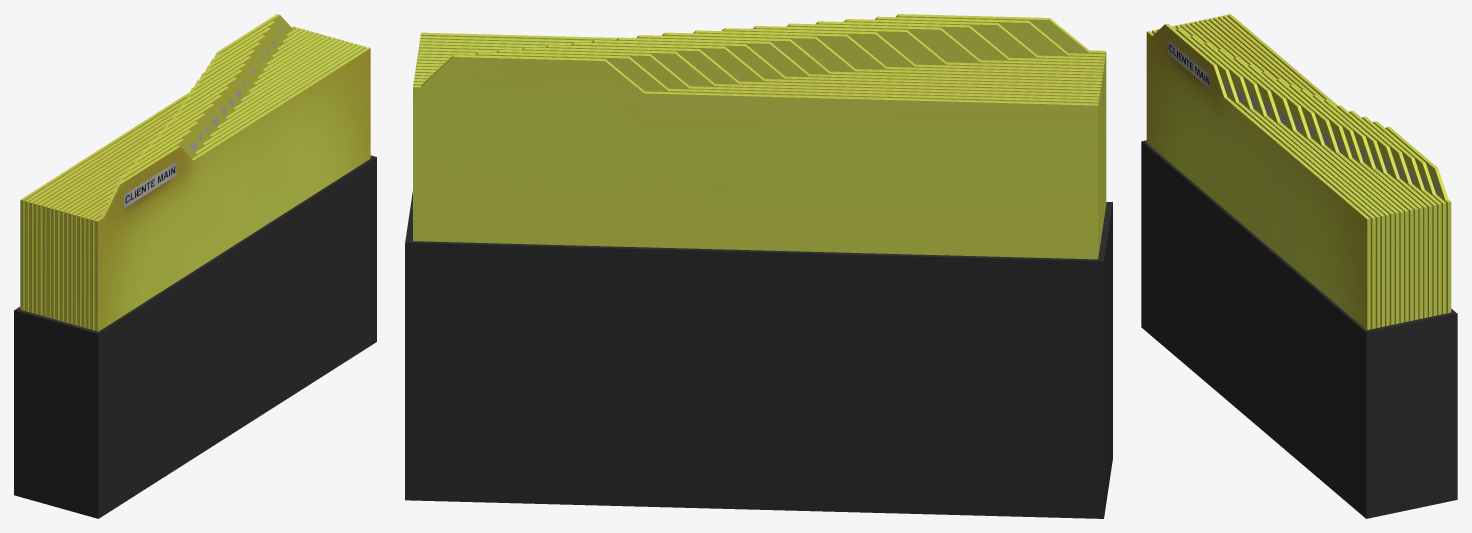
The model's file is NSScadenzario.gltf.
3 views of the same model, side by side, from view 1: azimuth 30°, elevation 25°; view 2: azimuth 150°, elevation 25°; view 3: azimuth 270°, elevation 25° (orthographic). The views are drawn at different scales.
Parts seen in each view (by area): view 1: Cubo.002; view 2: Cubo.002; view 3: Cubo.002.
Boxes of the visible parts, x1,y1,x2,y2 form: Cubo.002: [14, 14, 376, 518]; Cubo.002: [405, 14, 1112, 518]; Cubo.002: [1141, 14, 1457, 518].
Size of the model in its own units: 0.2723 by 0.193 by 0.1727.
3 materials, 3 textured.
